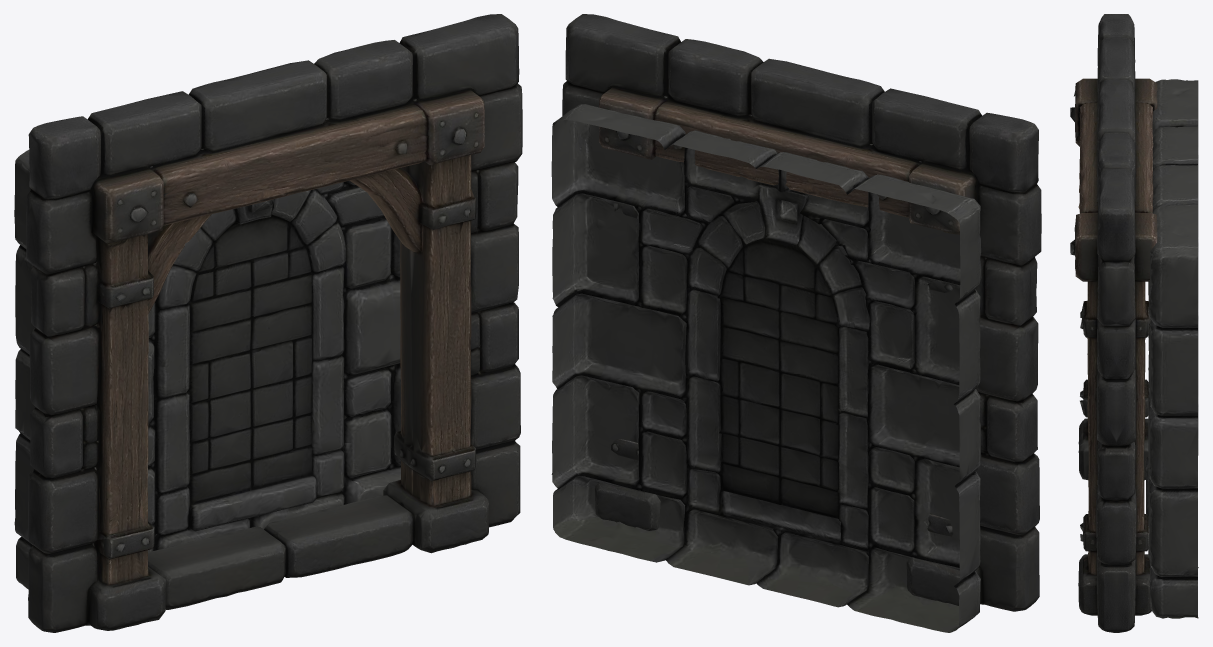
File: Wall_RecessedWoodFramed.fbx
The picture shows the model from 3 angles, left to right: view 1: azimuth 30°, elevation 25°; view 2: azimuth 150°, elevation 25°; view 3: azimuth 270°, elevation 25°; orthographic projection. The views are drawn at different scales.
Parts seen in each view (by area): view 1: Wall_RecessedWoodFramed; view 2: Wall_RecessedWoodFramed; view 3: Wall_RecessedWoodFramed.
Part boxes in pixels (x1,y1,x2,y2): Wall_RecessedWoodFramed: (14,14,522,632); Wall_RecessedWoodFramed: (551,14,1041,632); Wall_RecessedWoodFramed: (1070,14,1198,632).
Size of the model in its own units: 310 by 304 by 83.18.
